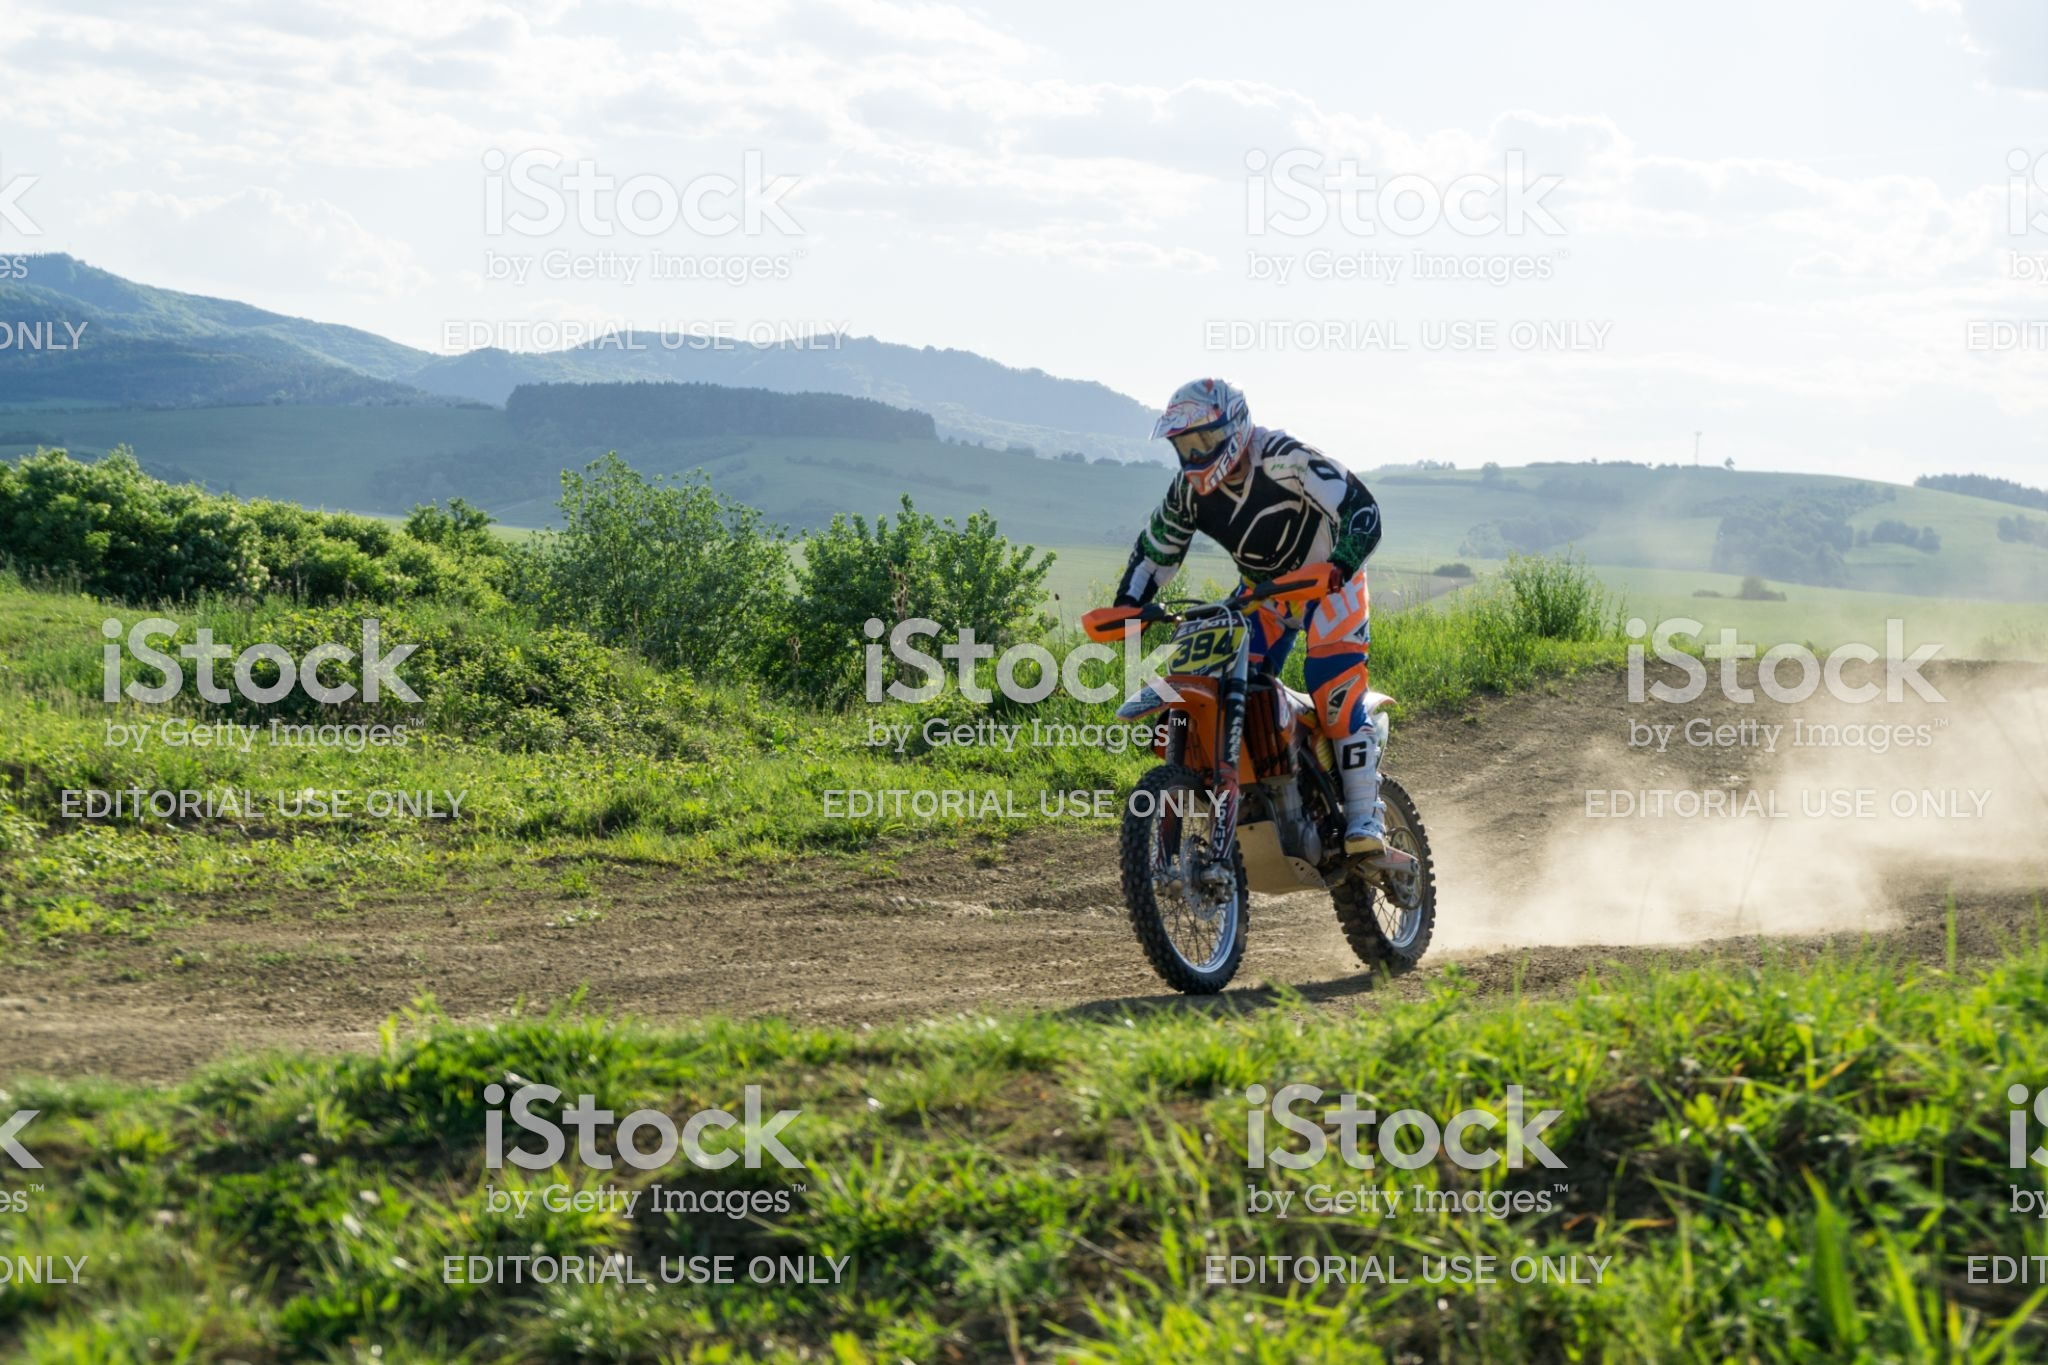helmet: (1140, 381, 1252, 475)
